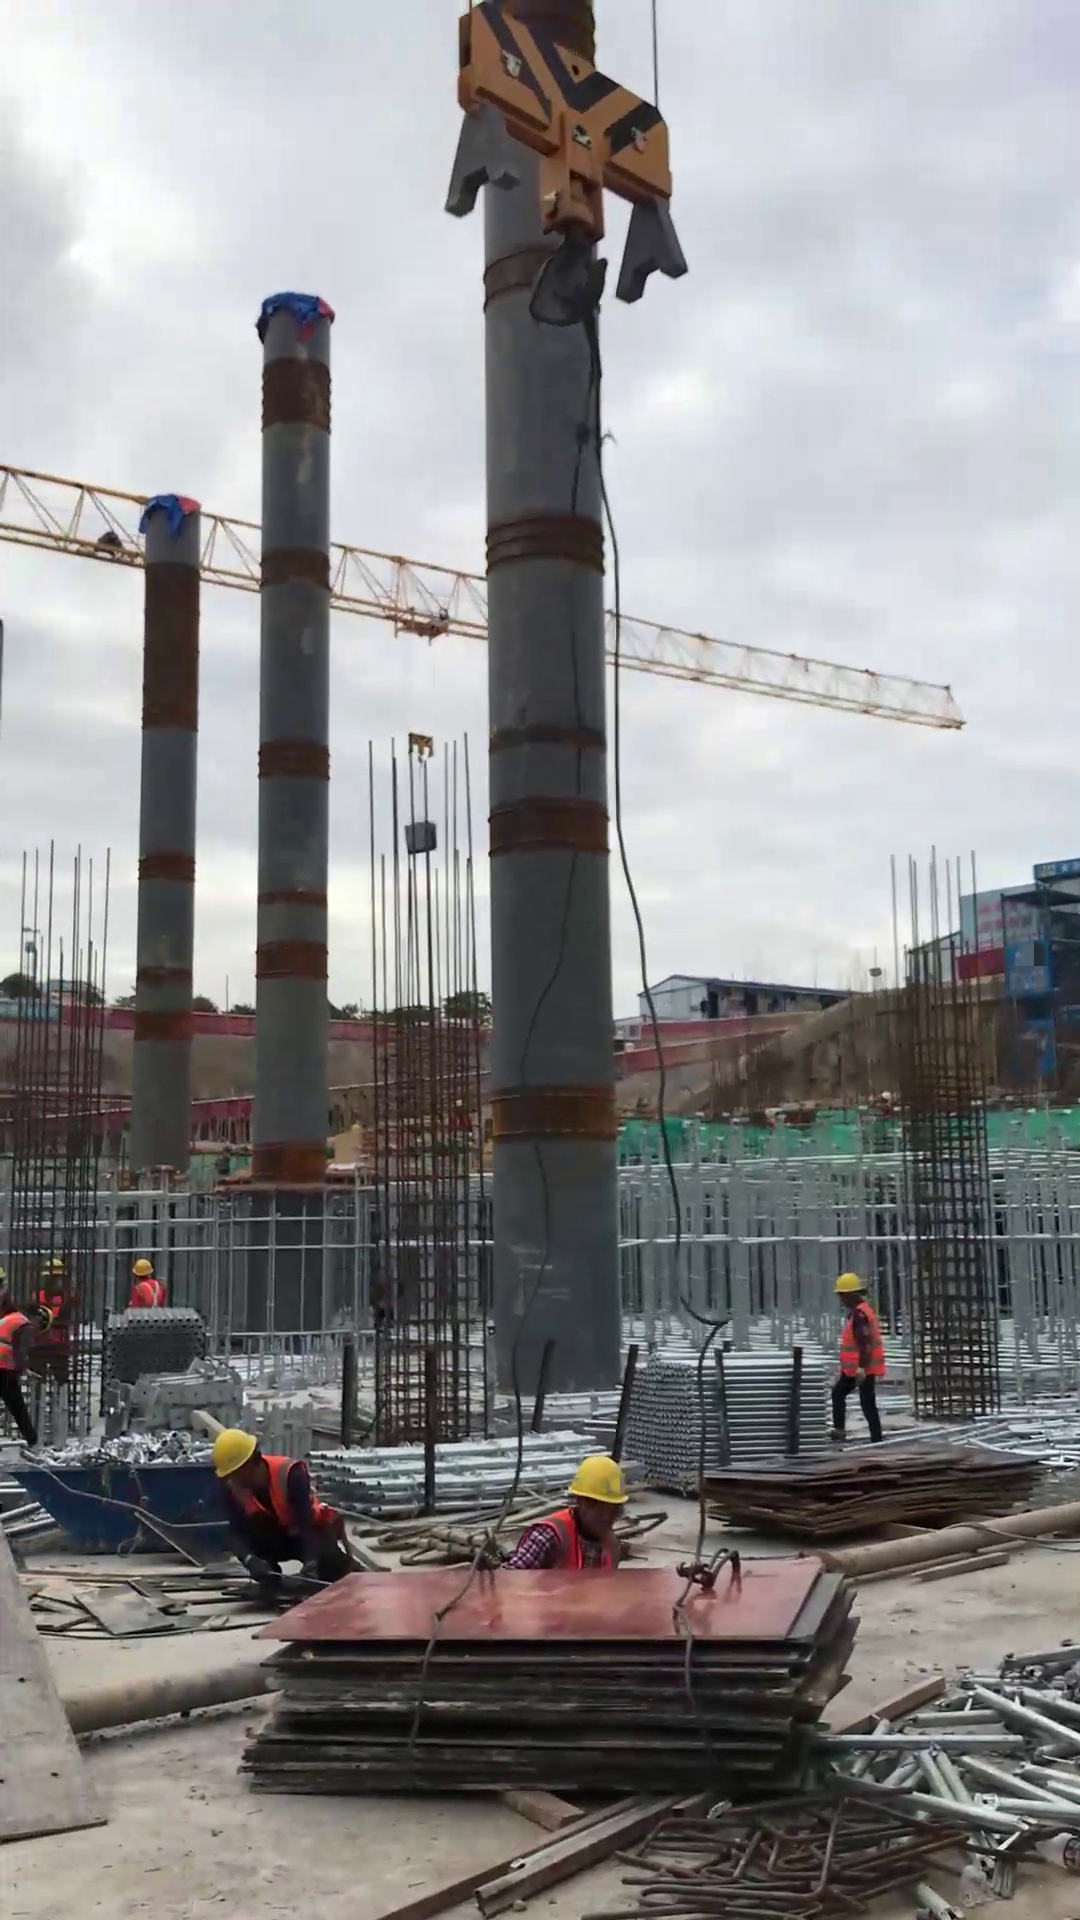board: (218, 1544, 873, 1808), (690, 1425, 1056, 1556)
helmet: (563, 1450, 632, 1519), (202, 1424, 268, 1487), (828, 1271, 871, 1305), (121, 1253, 163, 1287)
hook: (445, 3, 702, 334), (395, 727, 437, 765)
hopper: (26, 1453, 230, 1551)
person: (186, 1418, 366, 1605), (487, 1444, 639, 1590), (820, 1256, 897, 1456), (1, 1302, 68, 1459), (116, 1248, 178, 1324)
scaffold: (614, 1325, 835, 1496)
vest: (220, 1458, 336, 1558), (500, 1510, 623, 1585), (834, 1308, 886, 1387), (1, 1313, 37, 1383), (126, 1279, 173, 1315)
